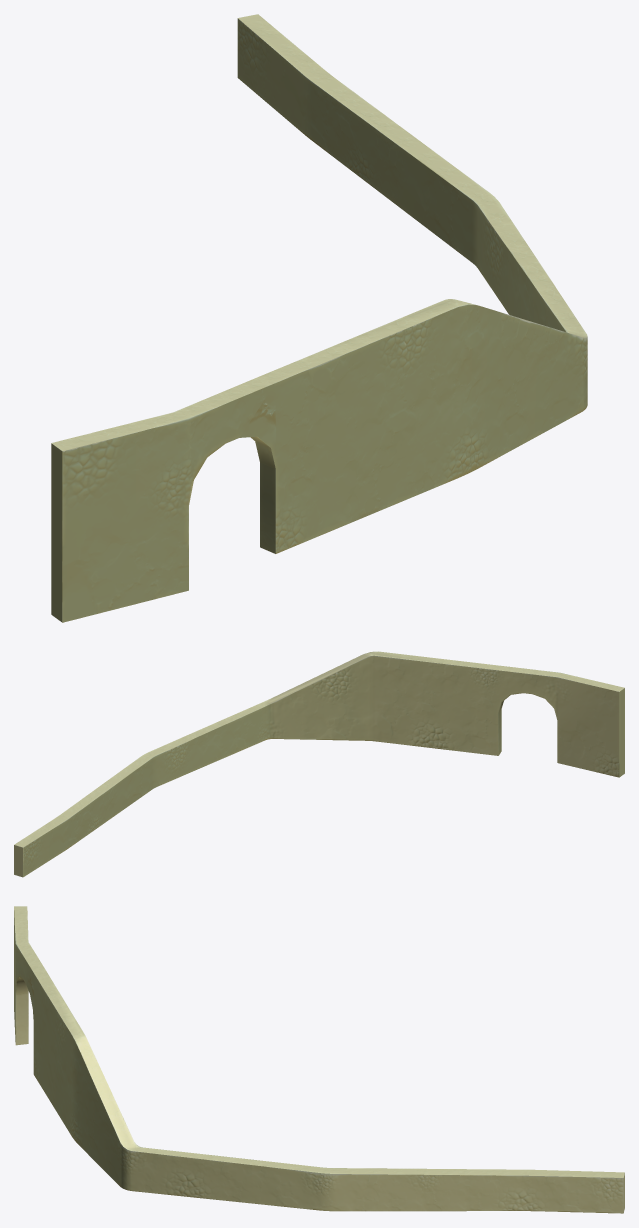
File: Enclosure walls2_LOW.fbx
The picture shows the model from 3 angles, top to bottom: view 1: azimuth 30°, elevation 25°; view 2: azimuth 150°, elevation 25°; view 3: azimuth 270°, elevation 25°; orthographic projection. The views are drawn at different scales.
Visible parts, largest first — view 1: Enclosure walls_LOW; view 2: Enclosure walls_LOW; view 3: Enclosure walls_LOW.
Boxes of the visible parts, x1=… form: Enclosure walls_LOW: x1=51, y1=14, x2=587, y2=622; Enclosure walls_LOW: x1=14, y1=651, x2=624, y2=877; Enclosure walls_LOW: x1=14, y1=906, x2=624, y2=1213.
Size of the model in its own units: 1721 by 406 by 2163.
1 material, 1 textured.
